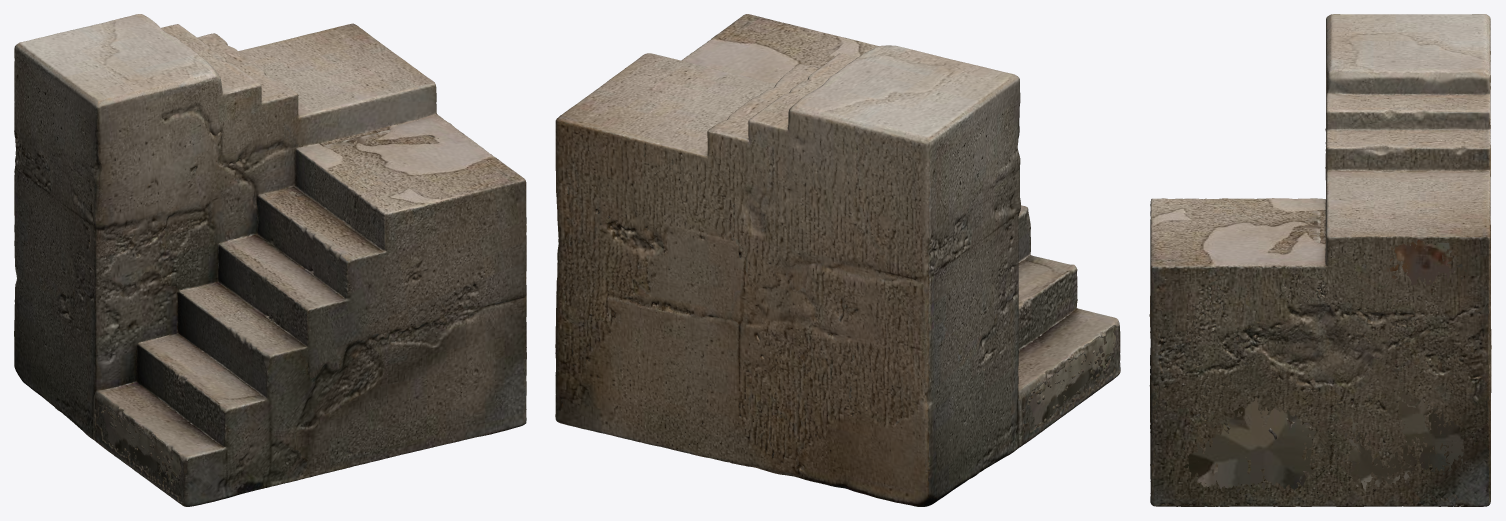
Rendered from Stairk.glb.
3 renders of one model, left to right at view 1: azimuth 30°, elevation 25°; view 2: azimuth 150°, elevation 25°; view 3: azimuth 270°, elevation 25°, orthographic. The views are drawn at different scales.
Visible parts, largest first — view 1: texture_mapping; view 2: texture_mapping; view 3: texture_mapping.
Boxes of the visible parts, left/top/right/bottom form: texture_mapping: left=14, top=14, right=526, bottom=506; texture_mapping: left=555, top=14, right=1120, bottom=506; texture_mapping: left=1149, top=14, right=1491, bottom=506.
Size of the model in its own units: 1 by 0.9507 by 0.8837.
Materials: 1 (1 with a texture image).
